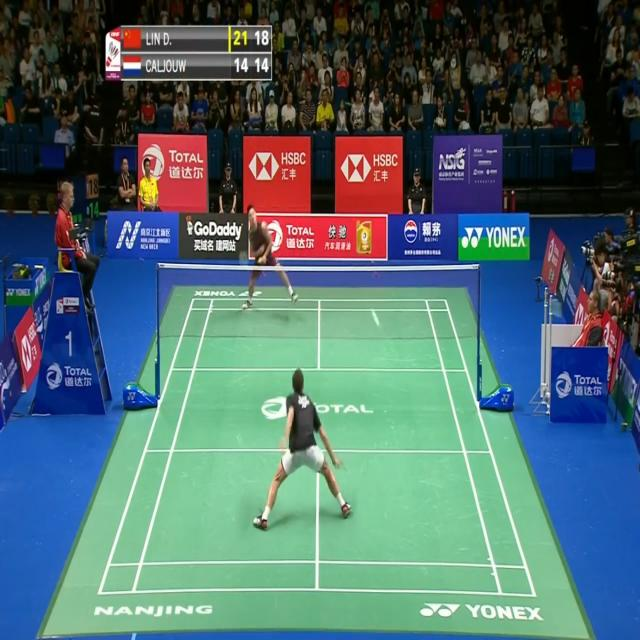Player1: (246, 361, 356, 535)
Player2: (230, 198, 306, 314)
